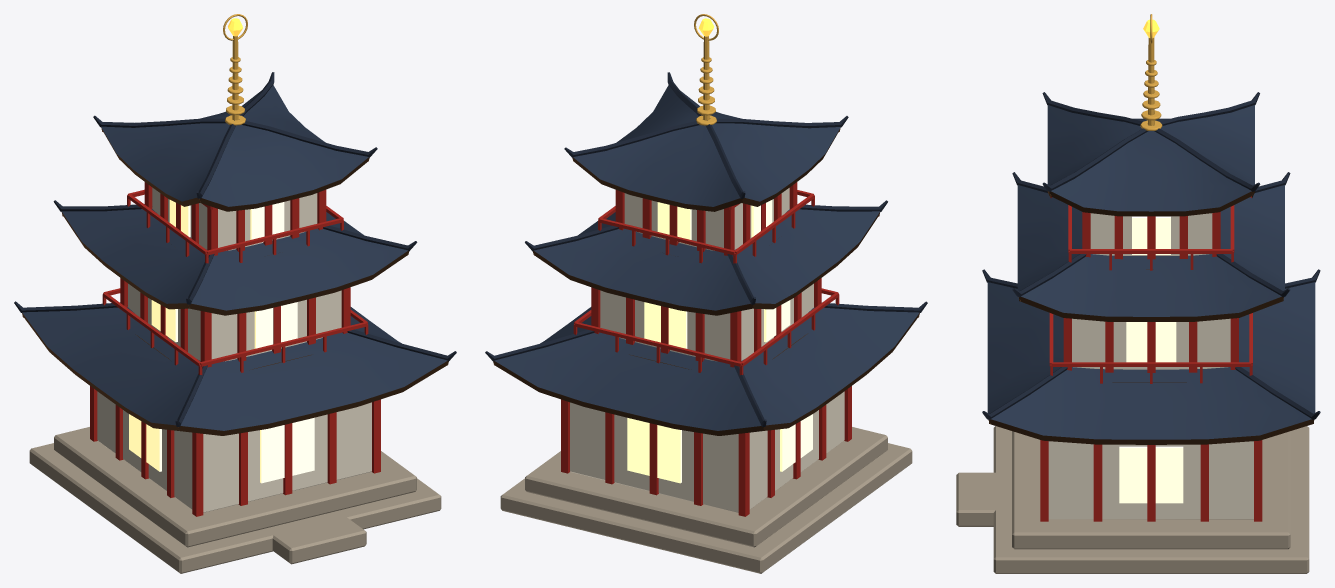
The model's file is pagoda.glb.
3 renders of one model, left to right at view 1: azimuth 30°, elevation 25°; view 2: azimuth 150°, elevation 25°; view 3: azimuth 270°, elevation 25°, orthographic. The views are drawn at different scales.
Parts seen in each view (by area): view 1: pagoda; view 2: pagoda; view 3: pagoda.
Part boxes in pixels (left/top/right/bottom): pagoda: left=14, top=14, right=456, bottom=573; pagoda: left=485, top=14, right=927, bottom=573; pagoda: left=956, top=14, right=1320, bottom=573.
Size of the model in its own units: 7.29 by 11.72 by 7.84.
